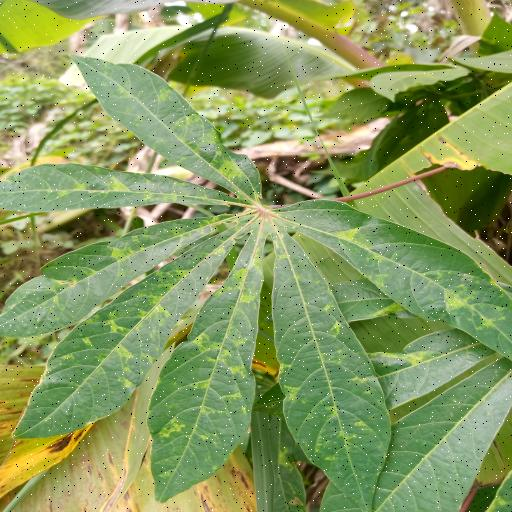Cassava_Mosaic: (0, 54, 512, 510)
